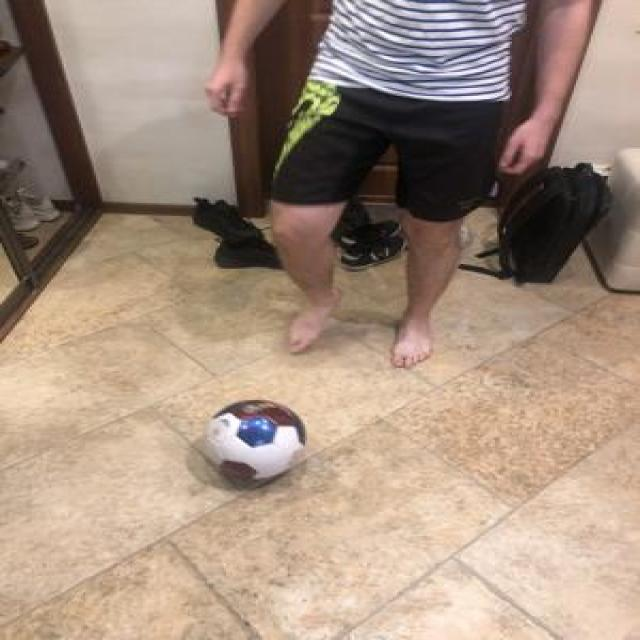Soccer Ball: (201, 394, 305, 480)
